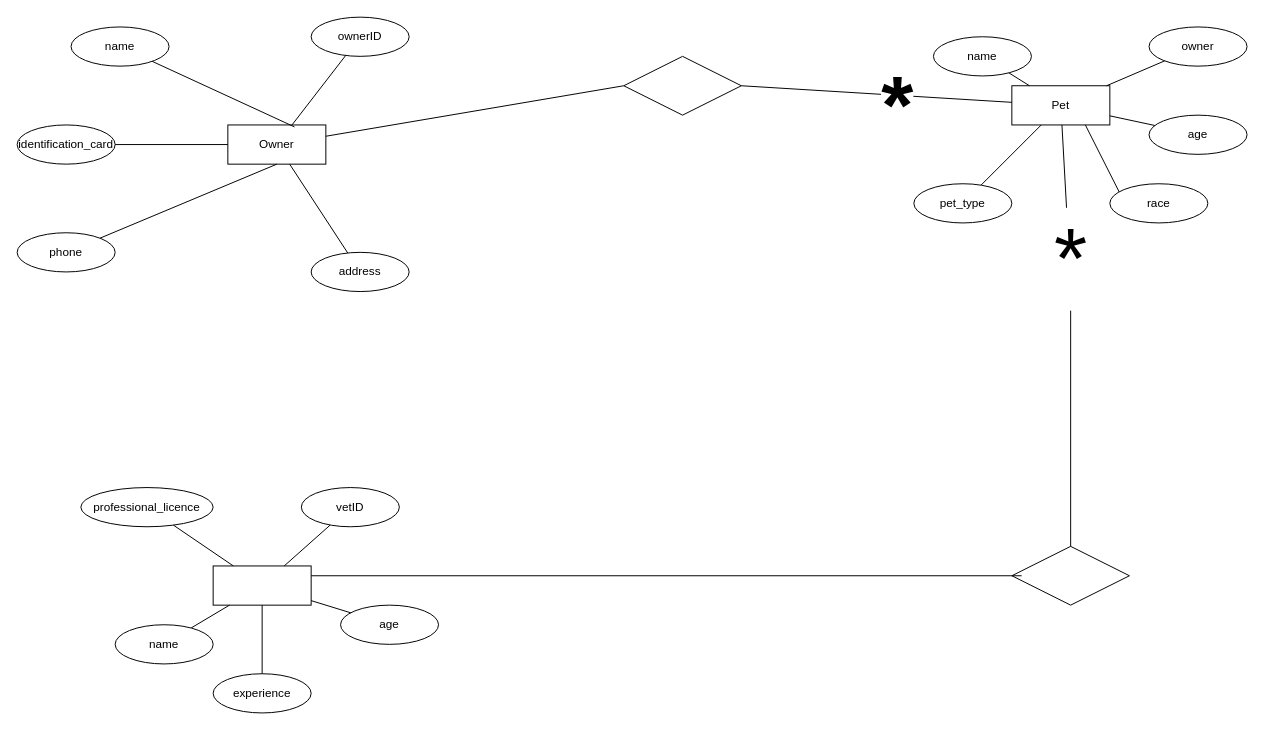
The diagram is 1264 pixels wide and 730 high, and some of its shapes have lost their labels. The centre of each missing label's shape, as x and y in pixels:
attention: the point at 1070,575
has: the point at 682,85
Vet: the point at 261,585
